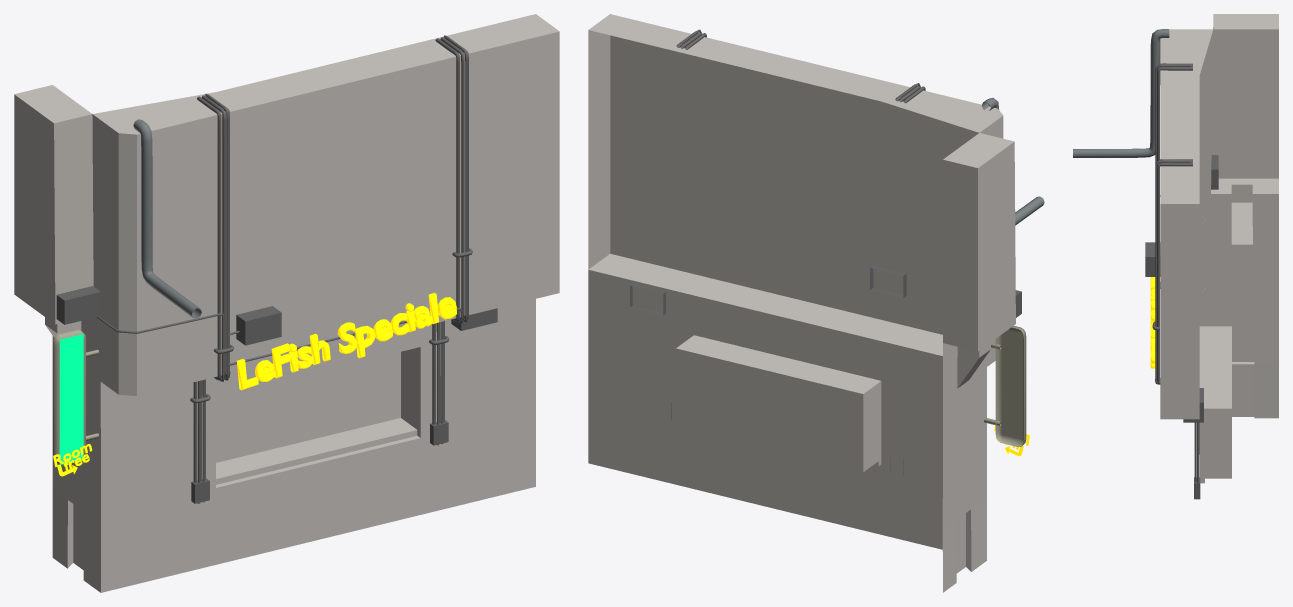
The model's file is hotel-building.fbx.
3 renders of one model, left to right at view 1: azimuth 30°, elevation 25°; view 2: azimuth 150°, elevation 25°; view 3: azimuth 270°, elevation 25°, orthographic. The views are drawn at different scales.
Parts seen in each view (by area): view 1: Cube.013, Text.001, Plane.004, NurbsCurve.018, NurbsPath.015, NurbsPath.005, Cube.019, Cube.024, Cube.023, NurbsPath.009, NurbsPath.014, NurbsPath.017 (+4 smaller); view 2: Cube.013, Cube.019; view 3: Cube.013, NurbsCurve.018, NurbsPath.003, NurbsPath.017, Text.001, Cube.024, NurbsPath.016, NurbsPath.018.
Boxes of the visible parts, <box> form: Cube.013: <box>14,14,559,592</box>; Text.001: <box>236,292,457,390</box>; Plane.004: <box>59,334,83,464</box>; NurbsCurve.018: <box>133,119,201,318</box>; NurbsPath.015: <box>193,96,221,482</box>; NurbsPath.005: <box>432,38,459,424</box>; Cube.019: <box>52,329,85,464</box>; Cube.024: <box>236,306,281,345</box>; Cube.023: <box>56,286,100,324</box>; NurbsPath.009: <box>439,37,464,423</box>; NurbsPath.014: <box>200,95,225,481</box>; NurbsPath.017: <box>444,35,467,322</box>; Cube.013: <box>588,14,1015,592</box>; Cube.019: <box>995,326,1026,447</box>; Cube.013: <box>1160,14,1278,483</box>; NurbsCurve.018: <box>1073,29,1169,157</box>; NurbsPath.003: <box>1157,162,1199,482</box>; NurbsPath.017: <box>1155,160,1191,384</box>; Text.001: <box>1150,277,1155,368</box>; Cube.024: <box>1145,242,1160,276</box>; NurbsPath.016: <box>1157,67,1192,288</box>; NurbsPath.018: <box>1155,64,1191,163</box>.
Size of the model in its own units: 1335 by 1276 by 600.
